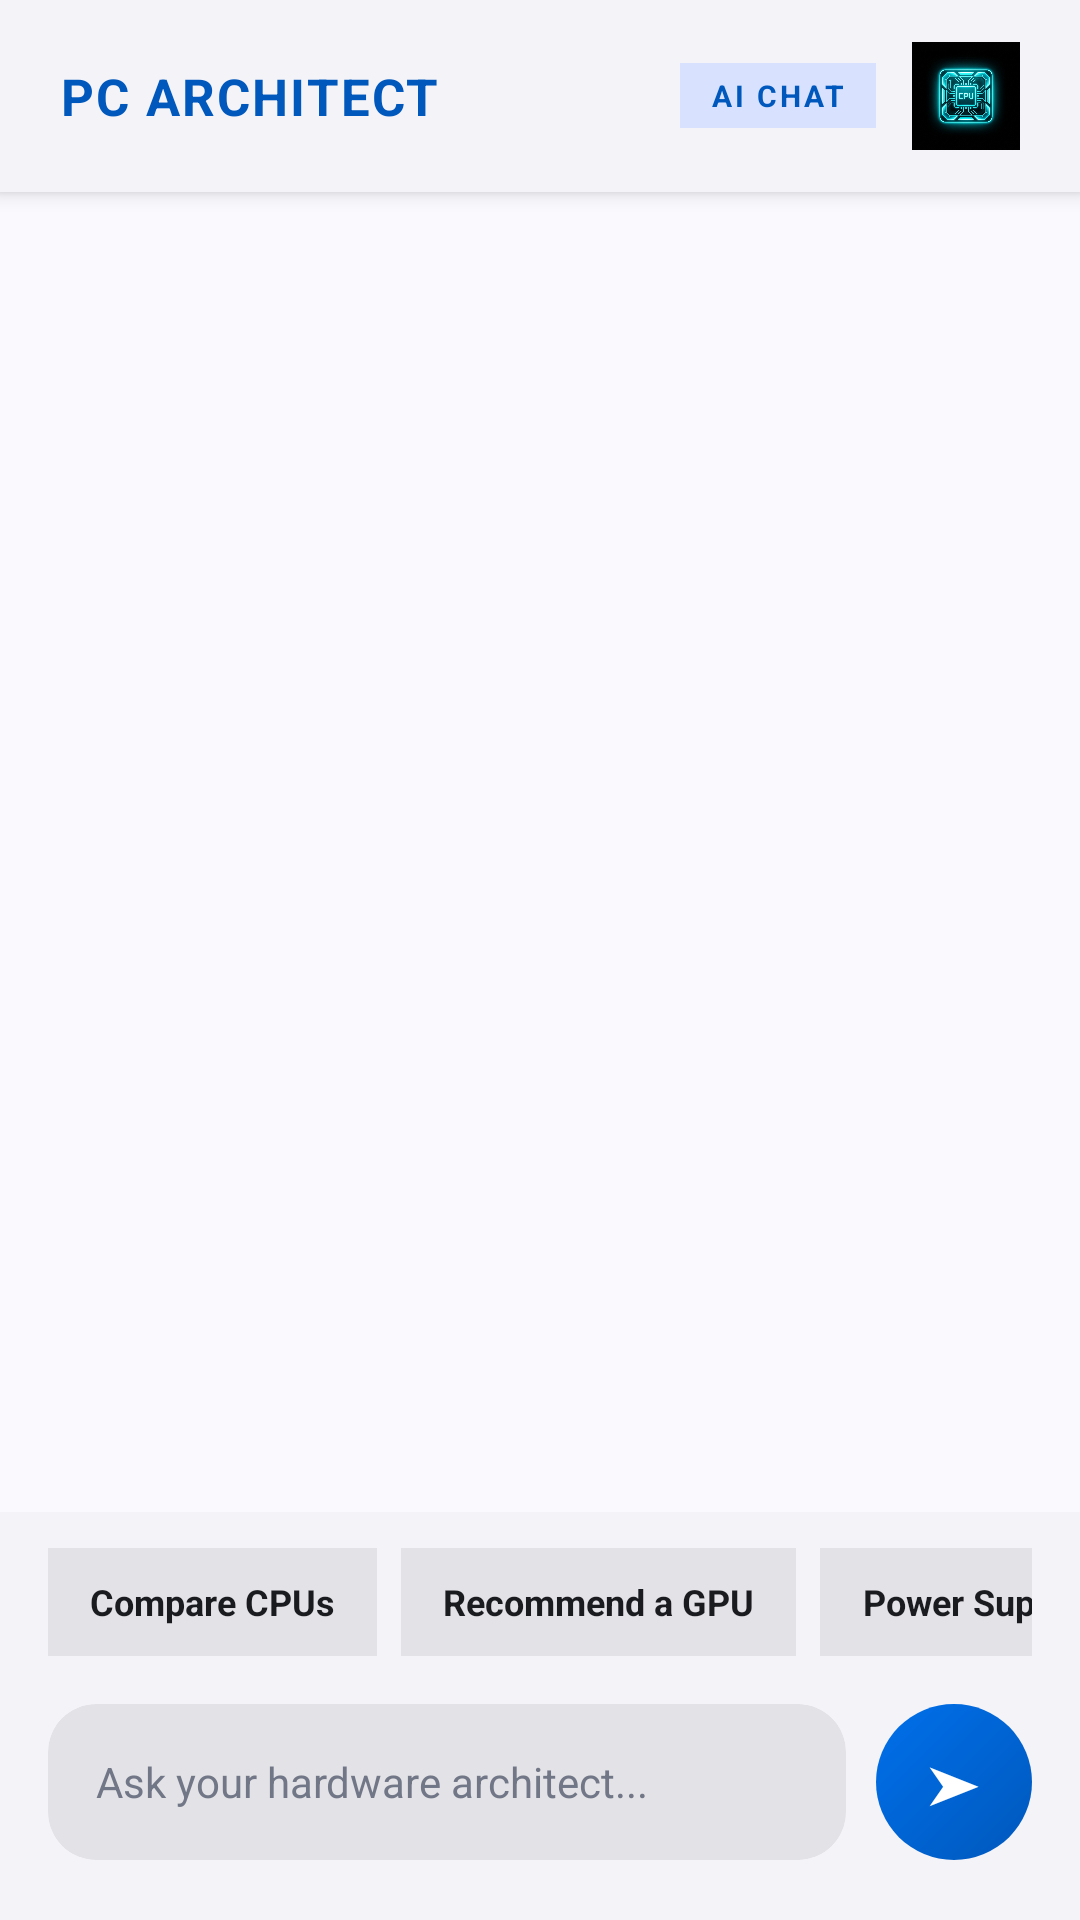

Screen size 1080×1920. Icon name, then its box in pixels as (x1, y1, x2, y2):
pc builder: (912, 42, 1020, 150)
